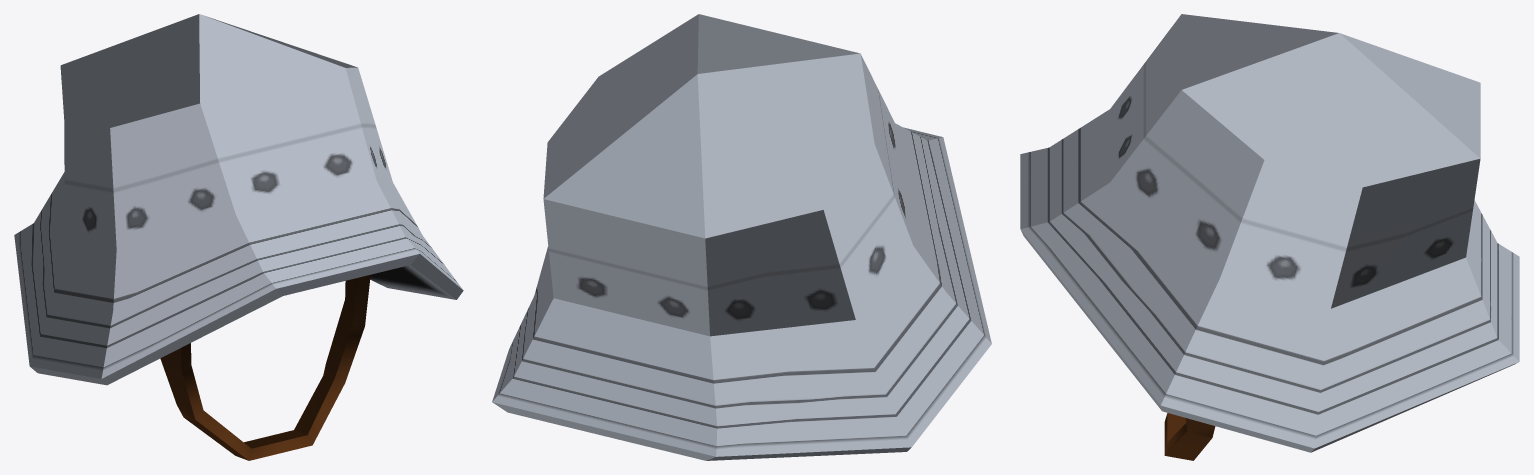
File: pk-polysplit-heroes-kettlehat-f.glb
The picture shows the model from 3 angles, left to right: view 1: azimuth 30°, elevation 25°; view 2: azimuth 150°, elevation 25°; view 3: azimuth 270°, elevation 25°; orthographic projection. The views are drawn at different scales.
Visible parts, largest first — view 1: KettleHat_F; view 2: KettleHat_F; view 3: KettleHat_F.
Boxes of the visible parts, x1,y1,x2,y2 form: KettleHat_F: [14, 14, 463, 460]; KettleHat_F: [492, 14, 991, 460]; KettleHat_F: [1020, 14, 1519, 460].
Size of the model in its own units: 0.3347 by 0.3394 by 0.3731.
Materials: 1 (1 with a texture image).
